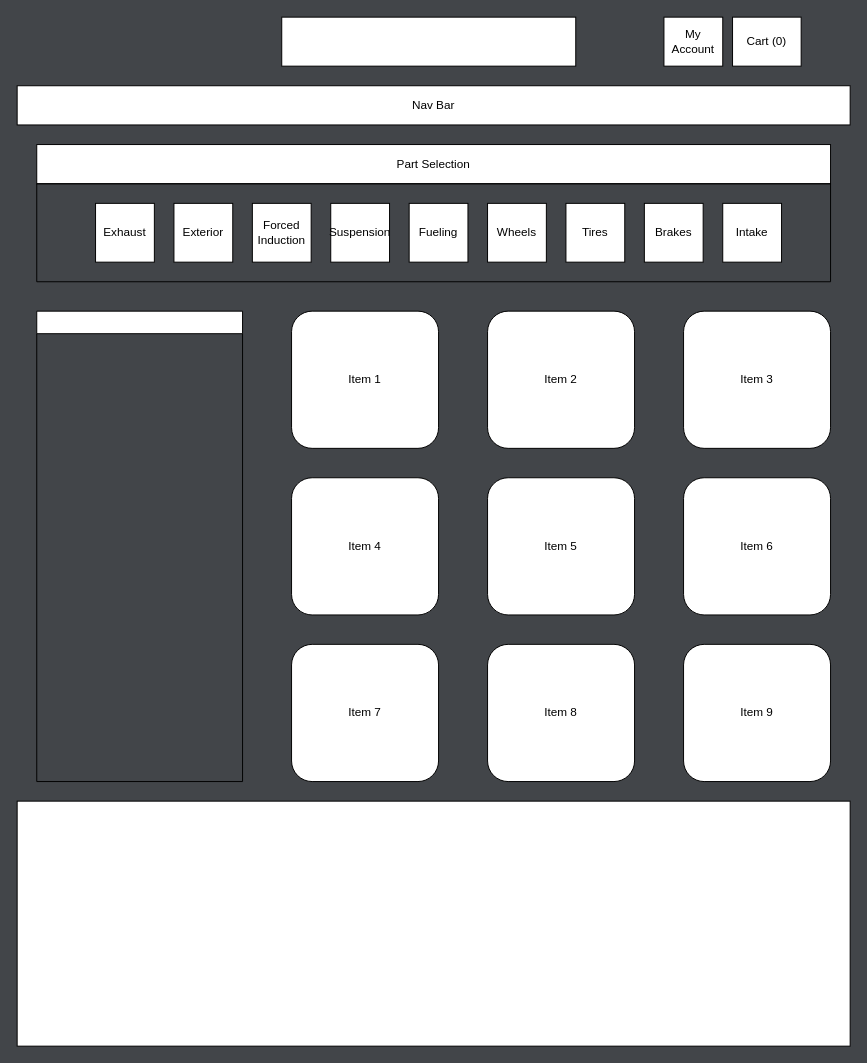
Some shapes in this 867 by 1063 pixel diagram are drawn without their labels. Here are the shapes that lost their labels. From the top down, the centre of each, then its label:
the point at 428,41: Logo
the point at 139,546: Sorting
the point at 433,923: Footer
